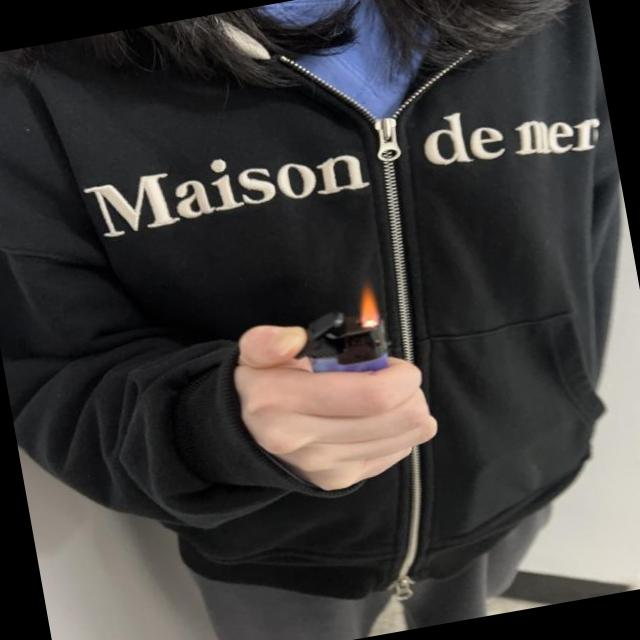Fire: (351, 278, 384, 332)
